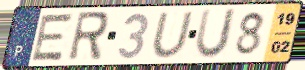3: (116, 10, 151, 61)
8: (232, 10, 266, 57)
E: (28, 12, 76, 63)
R: (65, 10, 111, 63)
U: (192, 7, 240, 61), (150, 10, 196, 60)
